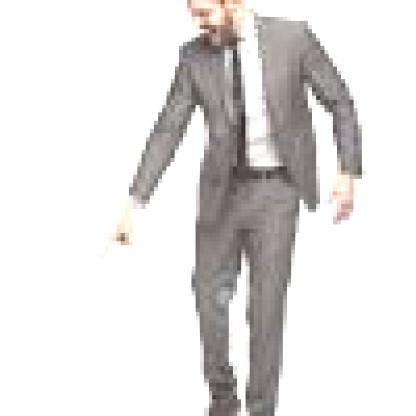Down: (87, 187, 152, 266)
